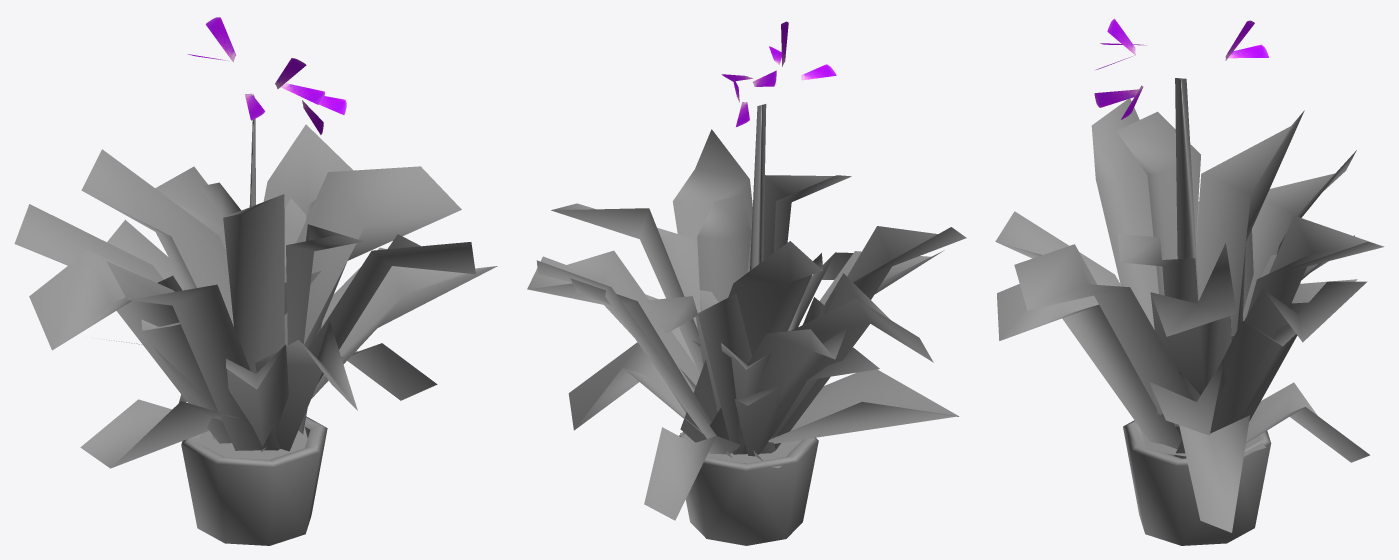
The model's file is Lily_leafgreen_flower_lod2.fbx.
The picture shows the model from 3 angles, left to right: view 1: azimuth 30°, elevation 25°; view 2: azimuth 150°, elevation 25°; view 3: azimuth 270°, elevation 25°; orthographic projection. The views are drawn at different scales.
Parts seen in each view (by area): view 1: Lily_leafgreen_flower_lod2; view 2: Lily_leafgreen_flower_lod2; view 3: Lily_leafgreen_flower_lod2.
Boxes of the visible parts, bbox=[...] form: Lily_leafgreen_flower_lod2: bbox=[14, 17, 497, 545]; Lily_leafgreen_flower_lod2: bbox=[527, 21, 966, 545]; Lily_leafgreen_flower_lod2: bbox=[995, 19, 1384, 545].
Size of the model in its own units: 56 by 62.19 by 43.14.
Materials: 4 (1 with a texture image).
